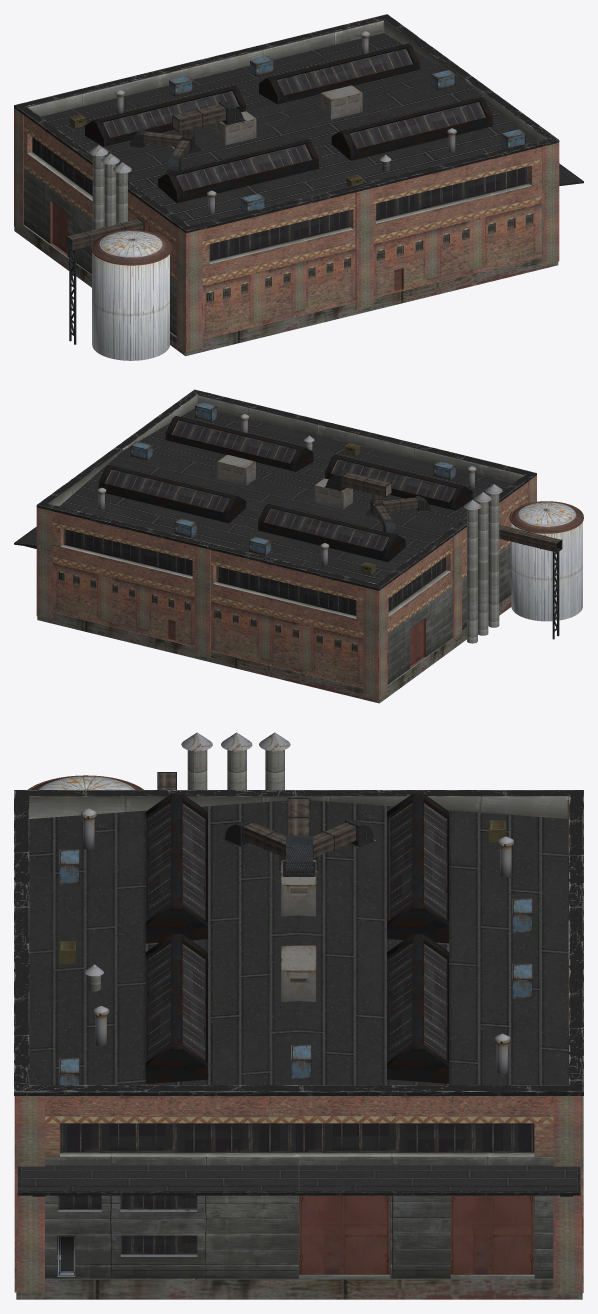
File: workshop.glb
3 views of the same model, one above another, from view 1: azimuth 30°, elevation 25°; view 2: azimuth 150°, elevation 25°; view 3: azimuth 270°, elevation 25° (orthographic). The views are drawn at different scales.
Parts seen in each view (by area): view 1: workshop; view 2: workshop; view 3: workshop.
Boxes of the visible parts, bbox=[...] form: workshop: bbox=[14, 14, 583, 360]; workshop: bbox=[14, 389, 583, 703]; workshop: bbox=[14, 732, 583, 1299].
Bounding box in the file's own units: 56.99 × 18.77 × 36.15.
1 material, 1 textured.
